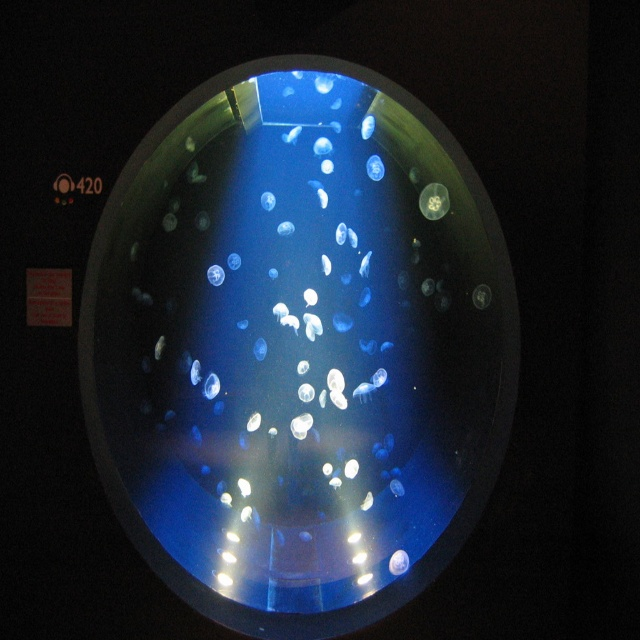Jellyfish: (416, 182, 450, 222), (326, 367, 346, 412), (385, 549, 407, 579), (471, 280, 490, 311), (302, 311, 322, 340), (354, 380, 374, 406), (358, 115, 377, 141), (365, 156, 384, 182), (206, 263, 226, 287), (188, 359, 205, 387), (204, 372, 221, 399), (150, 336, 166, 364), (252, 337, 268, 364), (295, 412, 314, 434), (191, 166, 209, 189), (332, 309, 351, 330), (315, 135, 333, 156), (358, 250, 371, 279), (371, 367, 388, 389), (280, 315, 298, 335), (344, 225, 359, 249), (418, 278, 436, 298), (344, 460, 361, 481), (246, 412, 264, 431), (316, 186, 330, 210), (357, 286, 371, 310), (288, 421, 306, 439), (334, 221, 346, 248), (398, 272, 412, 295), (237, 478, 253, 498), (273, 302, 288, 323), (261, 193, 278, 211), (298, 385, 315, 403), (359, 492, 376, 510), (286, 129, 302, 148), (278, 219, 296, 235), (388, 478, 404, 496), (196, 210, 210, 230), (358, 340, 378, 354), (302, 289, 318, 306), (239, 431, 251, 453), (382, 432, 394, 454), (226, 252, 240, 270), (190, 427, 202, 447), (217, 492, 232, 508), (297, 359, 310, 377), (164, 215, 178, 231), (240, 505, 254, 521), (379, 339, 393, 355), (322, 254, 332, 276), (214, 401, 227, 417), (321, 462, 334, 477), (318, 390, 328, 409), (160, 412, 177, 423), (297, 531, 310, 545), (321, 160, 334, 174), (342, 268, 351, 287), (330, 475, 342, 489), (217, 478, 229, 491), (238, 317, 250, 330), (199, 465, 210, 479), (268, 267, 279, 280), (268, 427, 278, 439), (374, 450, 384, 461)
